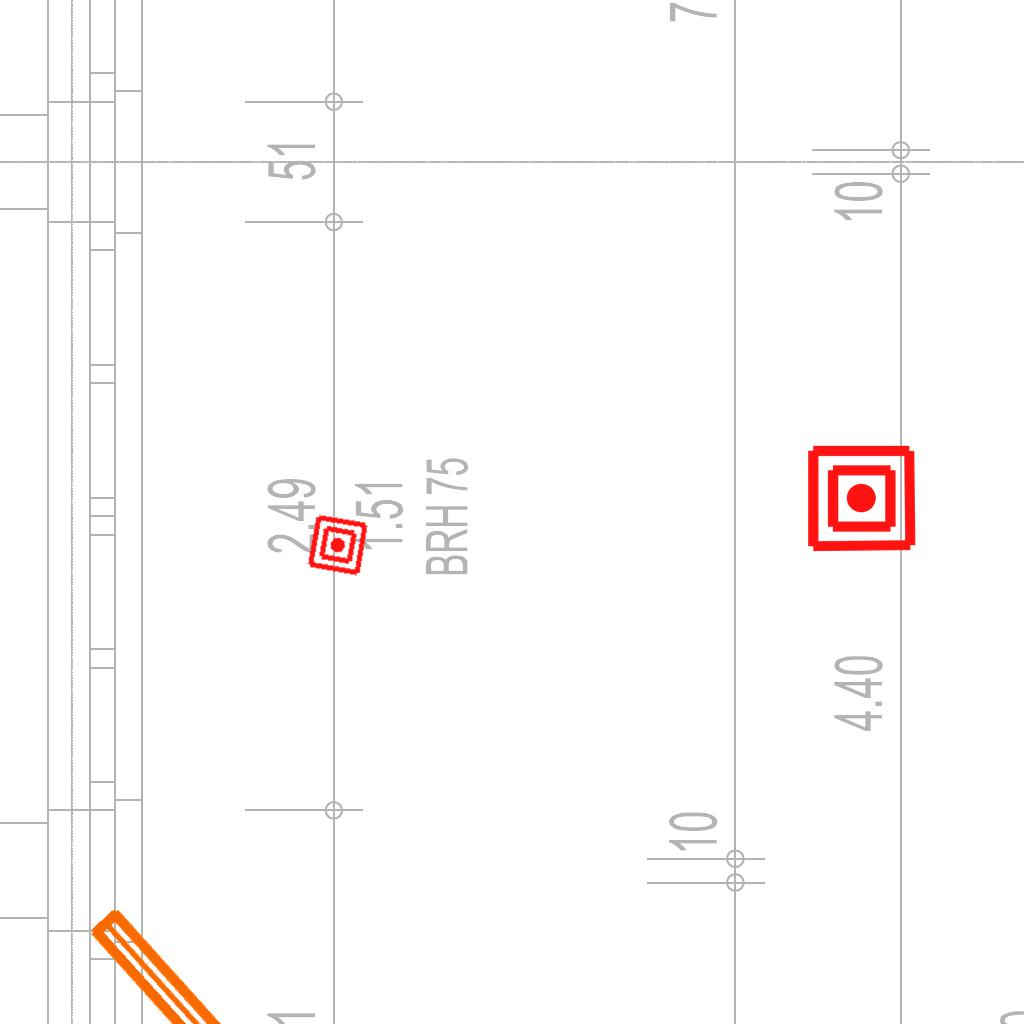Ambulanz_Pendelleuchte_LED: (72, 856, 674, 1024)
NAM-Nichtautomatischer_Melder: (805, 442, 918, 555), (305, 512, 371, 578)
